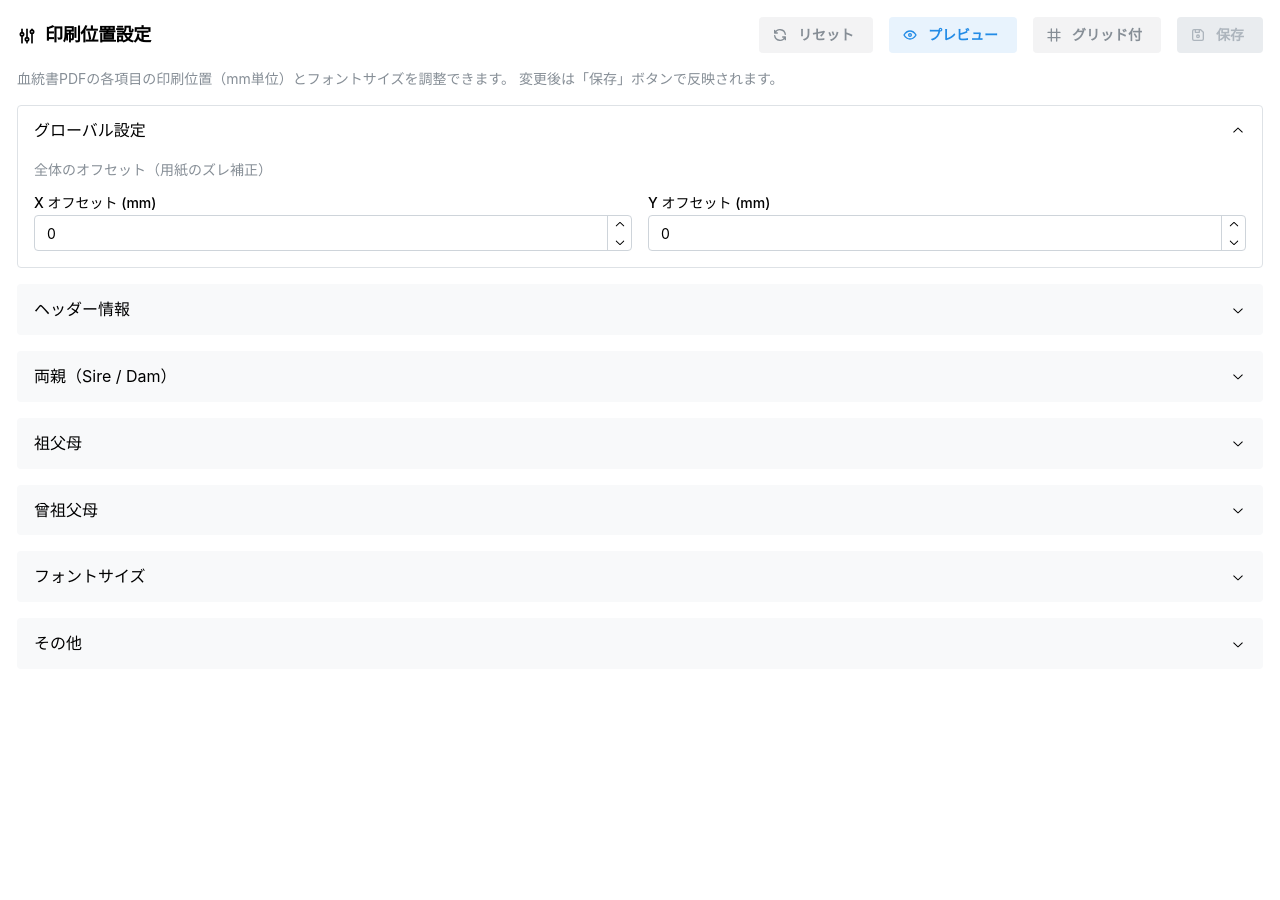
Test case: PrintSettingsEditor › 設定取得に成功した場合、初期状態では保存が無効で、変更すると有効になる
expect the heading "印刷位置設定" is shown: met, box [17, 22, 151, 48]
expect the button "保存" is disabled: met, box [1177, 17, 1263, 53]
Step 1. Replace the text in the field labelled "X オフセット (mm)" with "1" → {"x": 333, "y": 233}, box [34, 215, 632, 251]
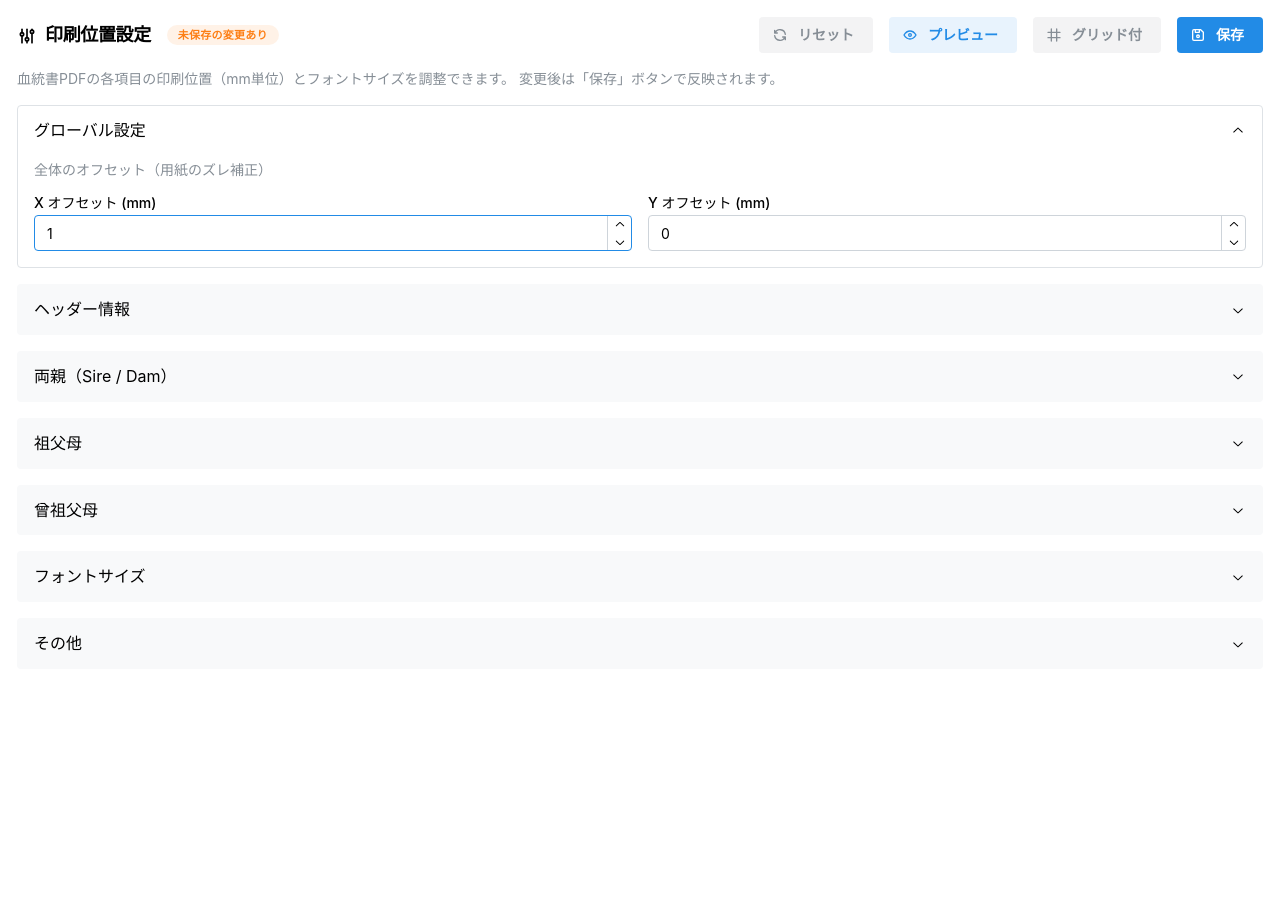
expect the button "保存" is enabled: met, box [1177, 17, 1263, 53]
